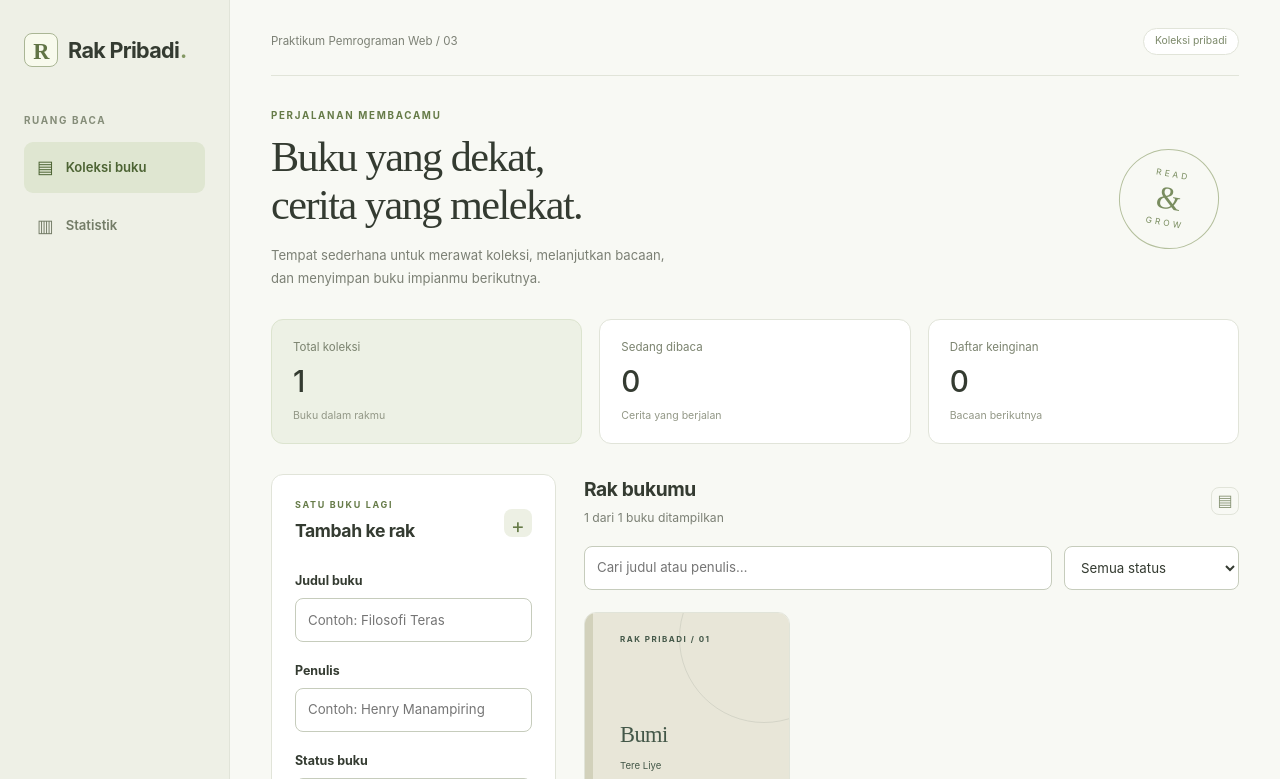
Test: menampilkan feedback saat pencarian tidak menemukan buku
Type "Tidak Ada" into the search field labelled "Cari judul atau penulis".
click(818, 568); type("Tidak Ada")  # box [584, 546, 1052, 590]
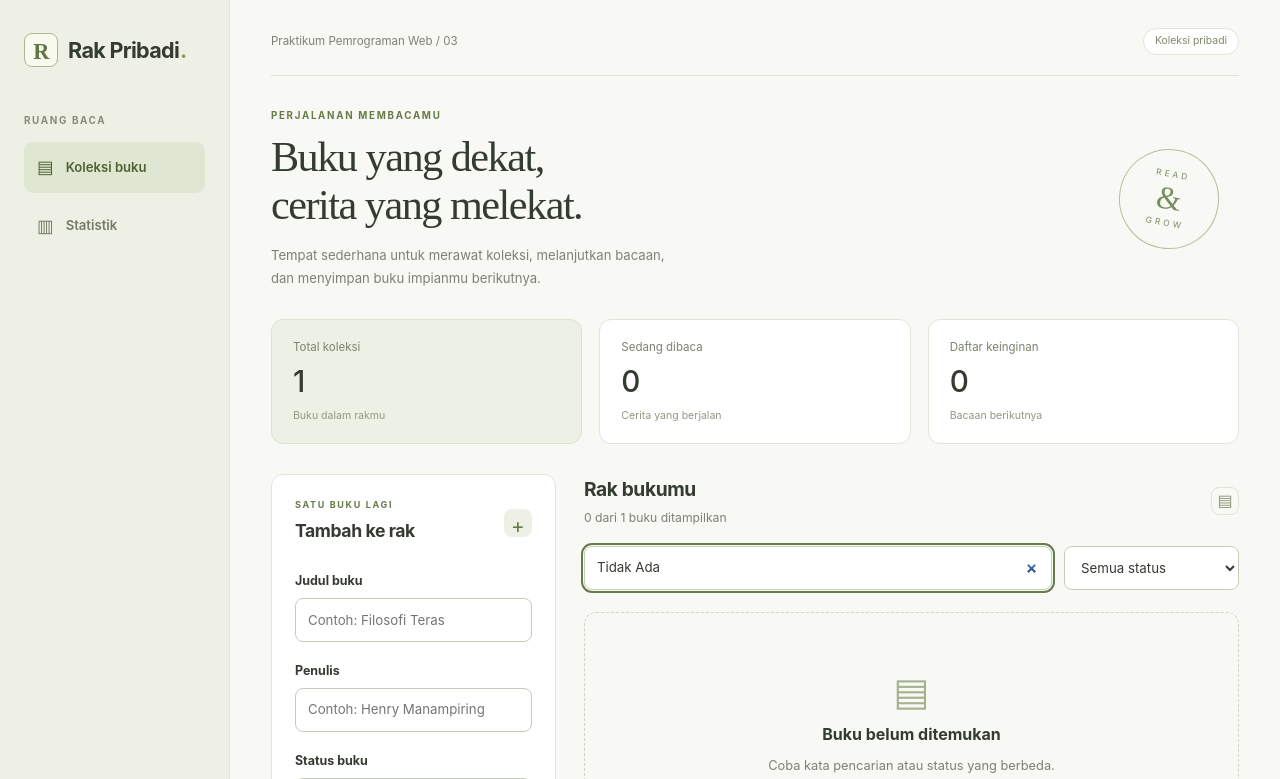
Expected: the heading "Buku belum ditemukan" is shown, [822, 724, 1001, 744]
